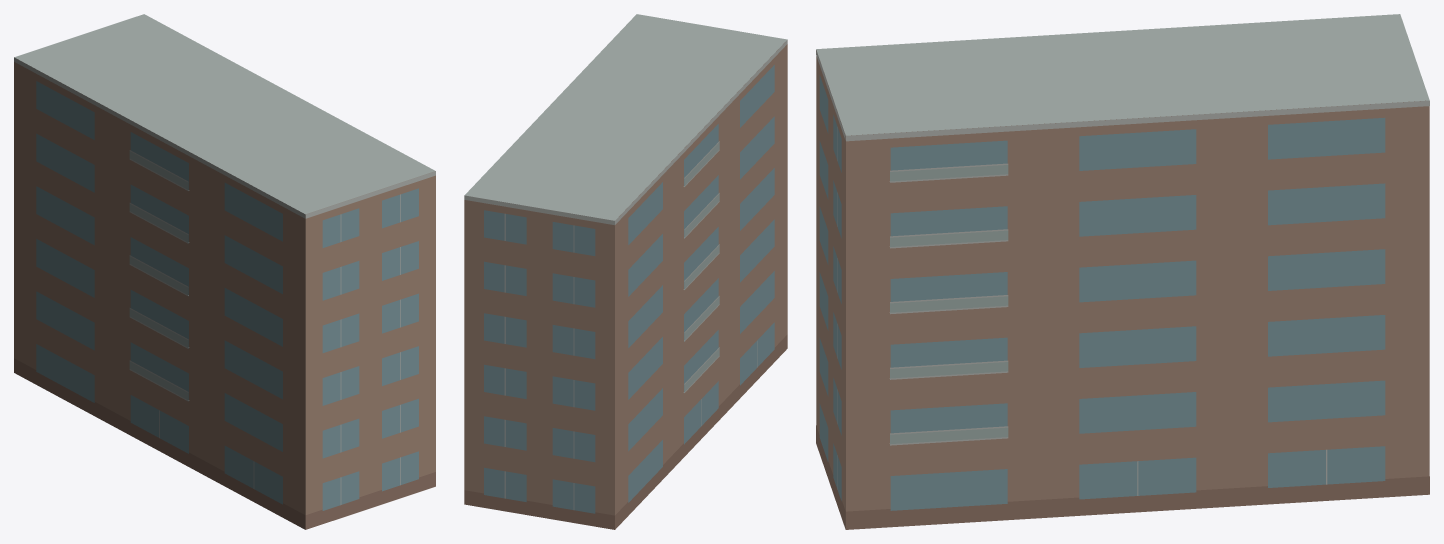
Rendered from survey-upis-32913482.glb.
3 views of the same model, side by side, from view 1: azimuth 30°, elevation 25°; view 2: azimuth 150°, elevation 25°; view 3: azimuth 270°, elevation 25° (orthographic). The views are drawn at different scales.
Parts seen in each view (by area): view 1: survey-upis-32913482.tmp; view 2: survey-upis-32913482.tmp; view 3: survey-upis-32913482.tmp.
Boxes of the visible parts, left/top/right/bottom form: survey-upis-32913482.tmp: left=14, top=14, right=435, bottom=529; survey-upis-32913482.tmp: left=464, top=14, right=787, bottom=529; survey-upis-32913482.tmp: left=816, top=14, right=1429, bottom=529.
Size of the model in its own units: 11.41 by 17.2 by 24.28.
